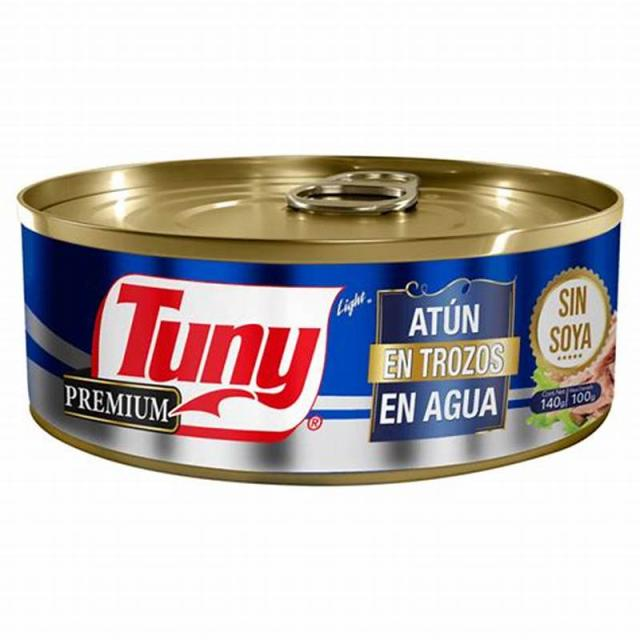Lata: (17, 156, 623, 492)
